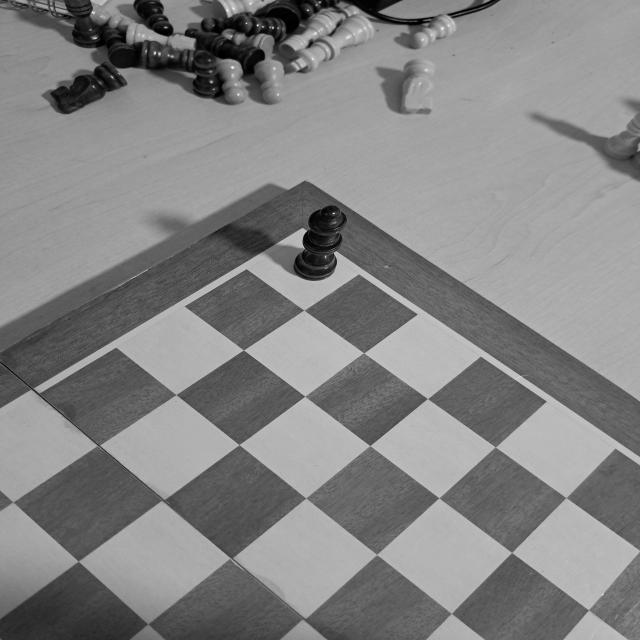chess-table-corners: (296, 224, 307, 231)
